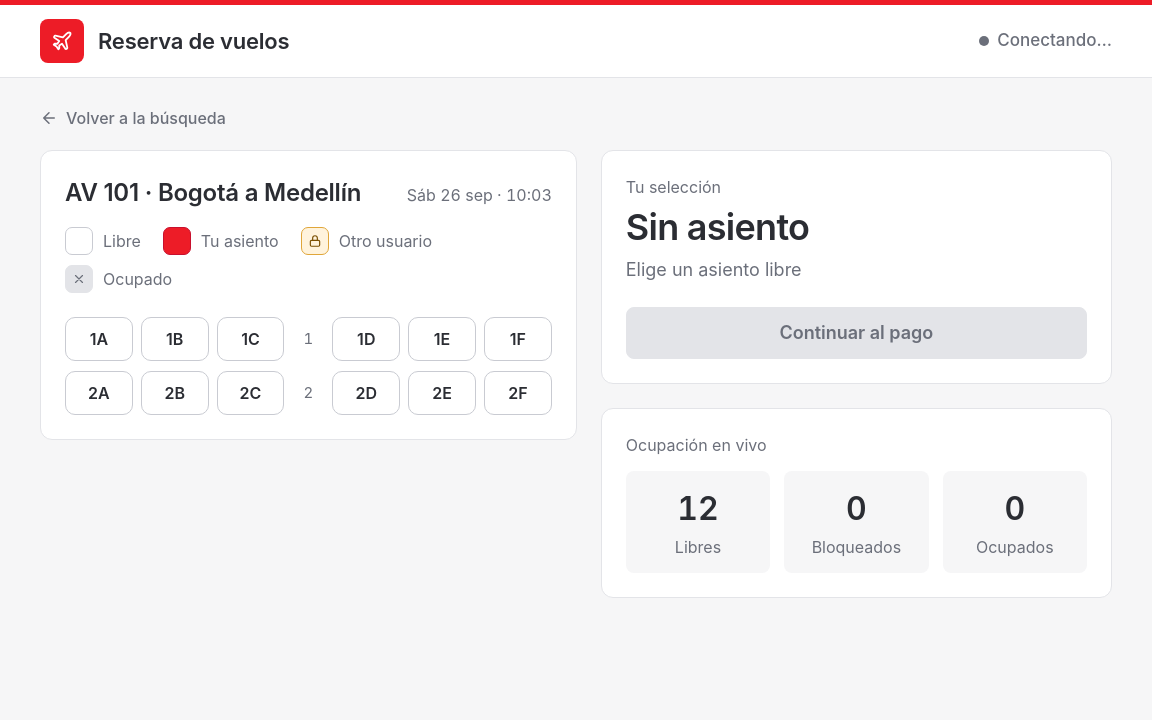
Test: SeatMapPage: selecting a seat › pressing my own seat again gives it up
The width and height of the screenshot is (1152, 720).
Expected: the heading "AV 101 · Bogotá a Medellín" is shown, [65, 175, 361, 211]
Click the button "1A".
click(99, 339)  # box [65, 317, 133, 361]
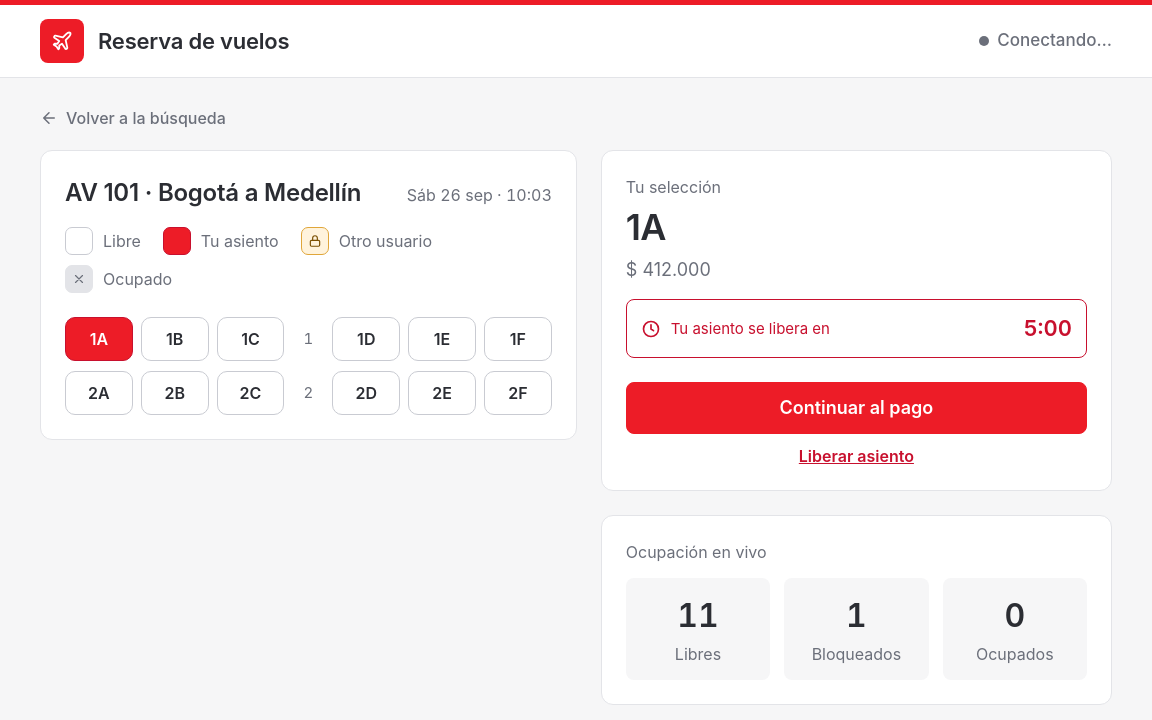
Click the button named "Asiento 1A, tu asiento".
click(99, 339)  # box [65, 317, 133, 361]
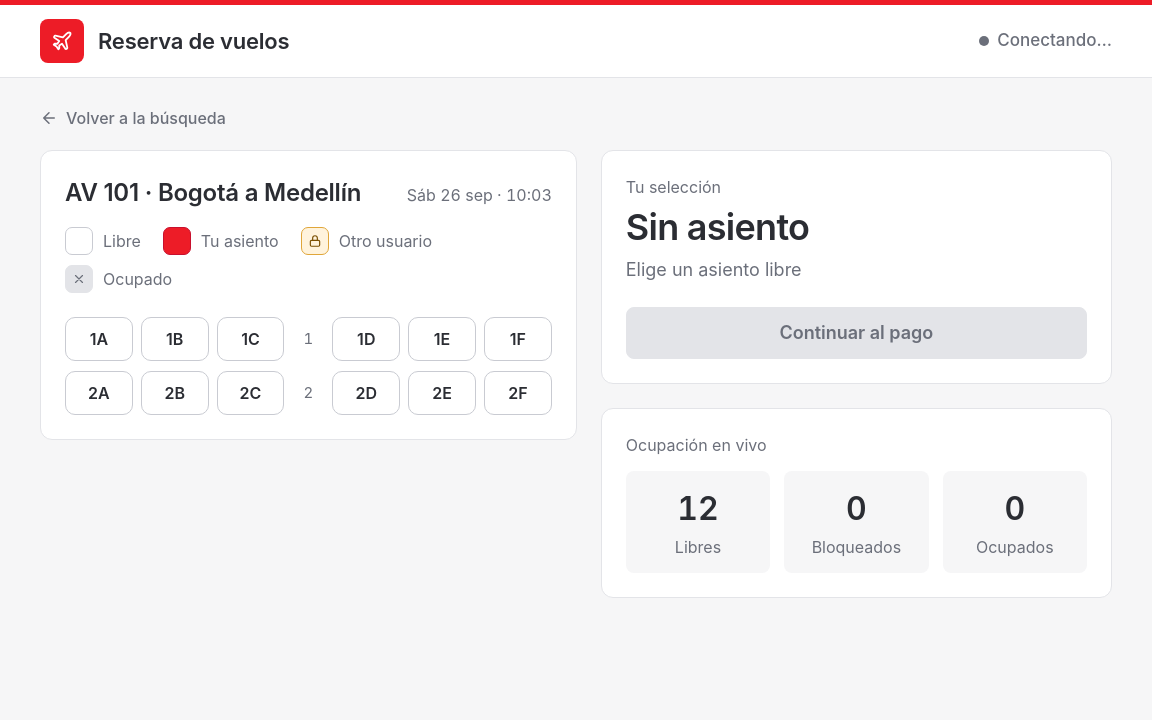
Result: the text "Sin asiento" is shown at [626, 205, 809, 249]
